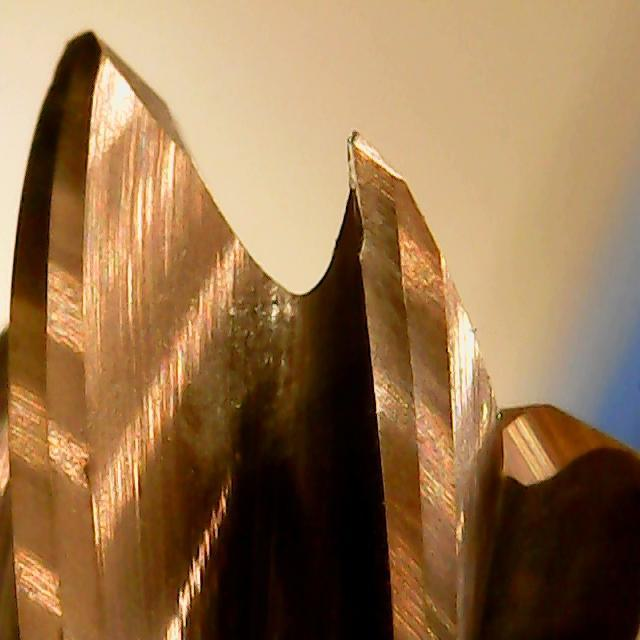Tool-wear-class-1: (326, 127, 449, 420)
